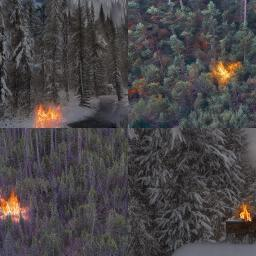Small fire: (207, 55, 247, 89), (2, 189, 33, 231), (28, 101, 69, 129), (230, 202, 256, 232)
